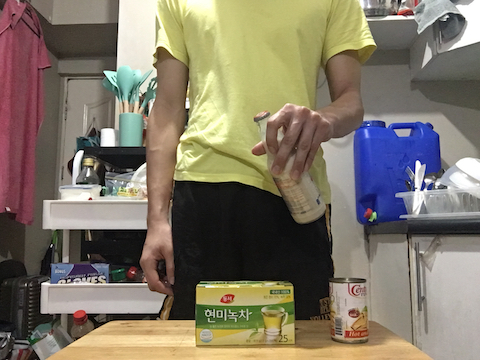bottle: (253, 108, 329, 227)
box: (190, 275, 299, 352)
can: (327, 273, 371, 345)
grab: (261, 102, 334, 181)
